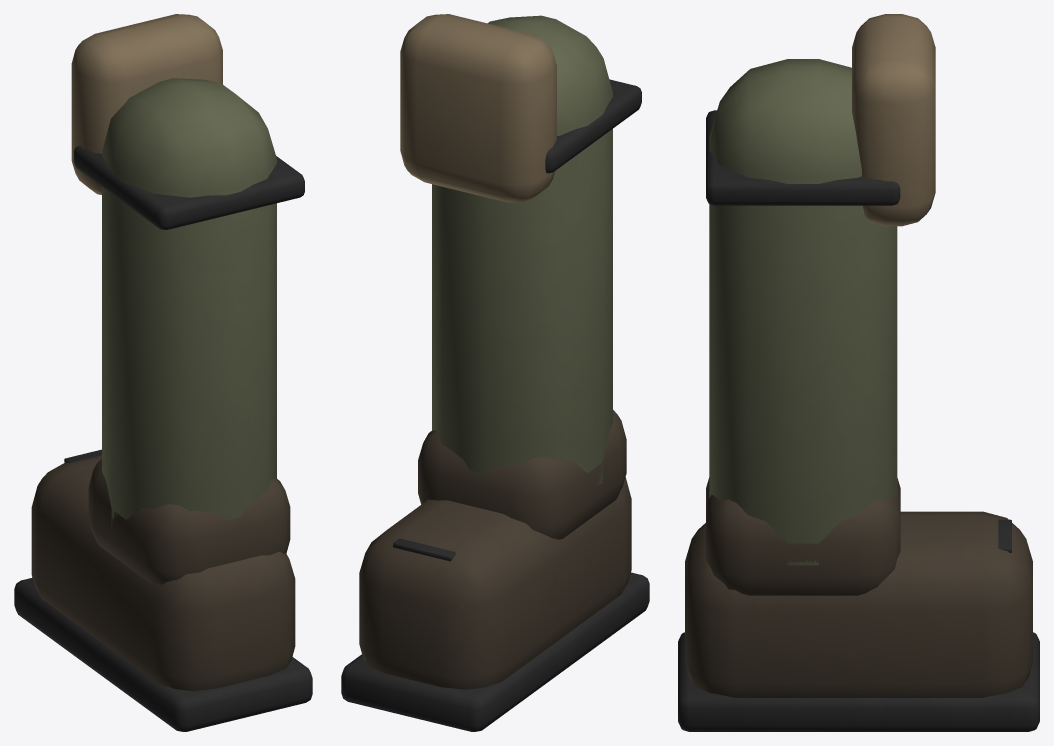
The model's file is SM_OperatorAShin.fbx.
The picture shows the model from 3 angles, left to right: view 1: azimuth 30°, elevation 25°; view 2: azimuth 150°, elevation 25°; view 3: azimuth 270°, elevation 25°; orthographic projection. The views are drawn at different scales.
Visible parts, largest first — view 1: SM_OperatorAShin; view 2: SM_OperatorAShin; view 3: SM_OperatorAShin.
Boxes of the visible parts, box(x1,y1,x2,y2) form: SM_OperatorAShin: box(14, 14, 312, 731); SM_OperatorAShin: box(341, 14, 649, 731); SM_OperatorAShin: box(678, 14, 1039, 731).
Size of the model in its own units: 0.13 by 0.525 by 0.26.
1 material, 1 textured.
